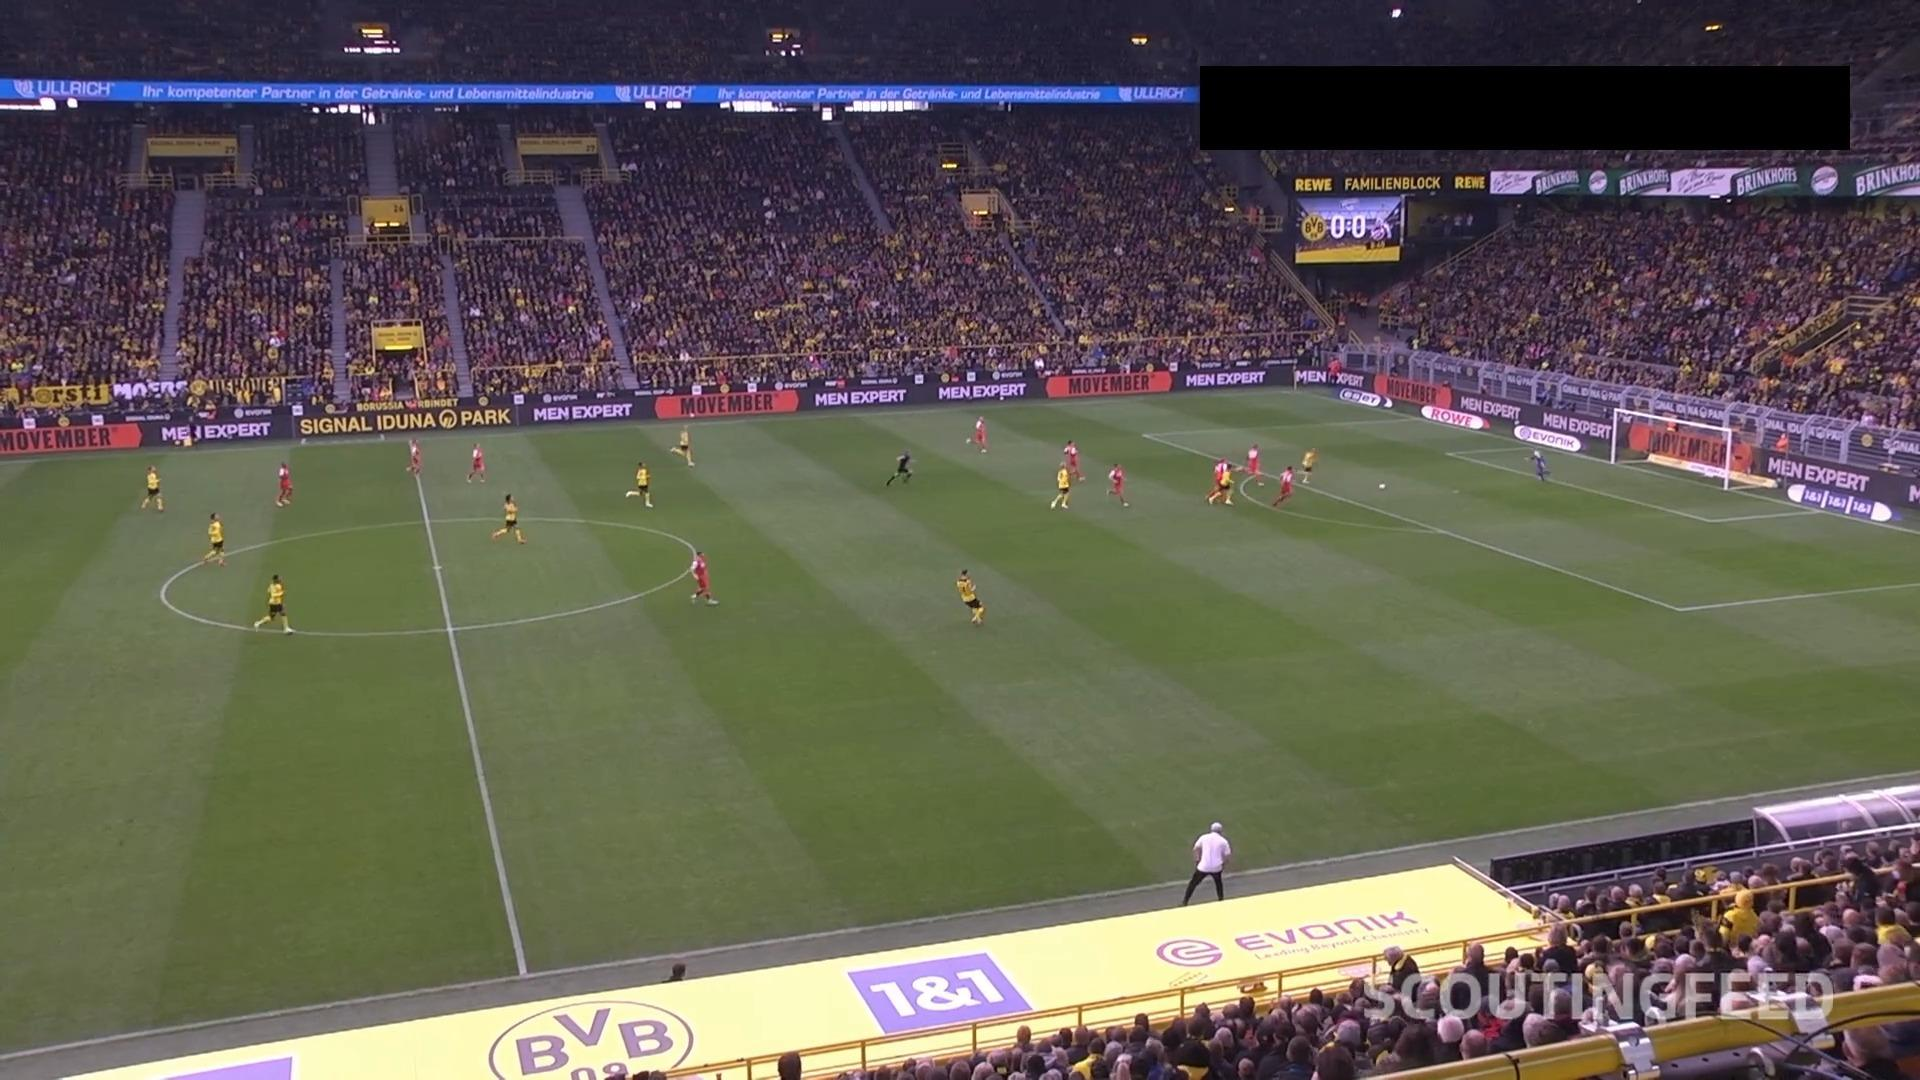ball: (1378, 483, 1386, 490)
coach: (1181, 820, 1232, 905)
player: (252, 573, 294, 634), (490, 492, 526, 544), (688, 548, 719, 605), (955, 567, 985, 625), (202, 511, 227, 566), (1206, 457, 1234, 502), (1208, 464, 1237, 504), (668, 425, 695, 467), (140, 464, 164, 511), (1241, 443, 1265, 490), (1061, 438, 1085, 482), (1106, 462, 1129, 507), (1048, 464, 1071, 509), (1271, 464, 1295, 506), (633, 460, 653, 508), (966, 415, 988, 454), (465, 442, 486, 482), (274, 462, 293, 506), (1528, 447, 1550, 481), (1299, 446, 1316, 483), (405, 436, 421, 474)
referee: (885, 449, 913, 487)
